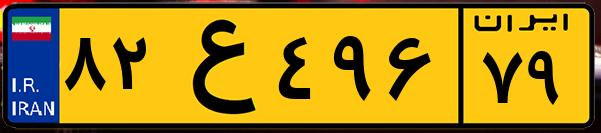2: (110, 28, 158, 98)
4: (270, 28, 330, 110)
6: (385, 28, 445, 110)
7: (475, 38, 525, 113)
8: (57, 26, 110, 100)
9: (330, 28, 385, 110), (525, 38, 570, 115)
ع: (158, 12, 270, 120)
